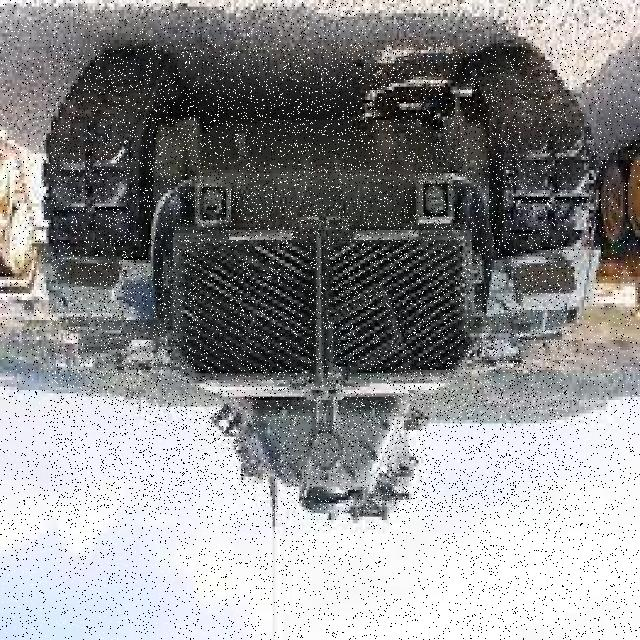MIL_MBT: (50, 45, 568, 515)
